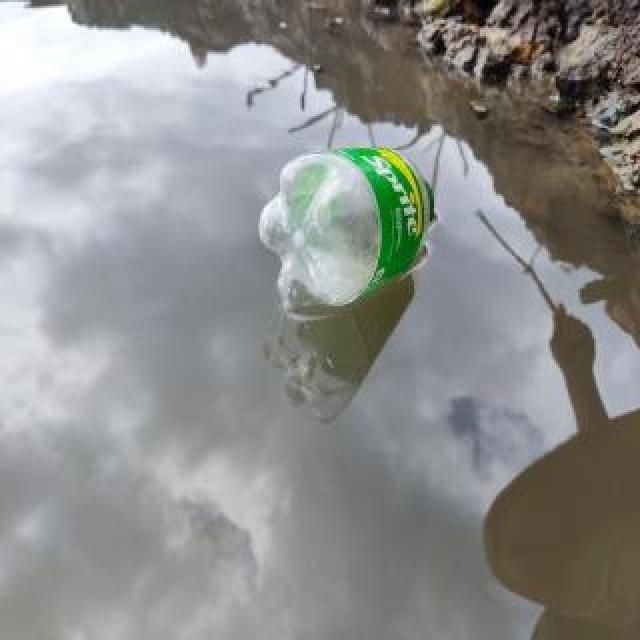bottle: (255, 143, 437, 315)
